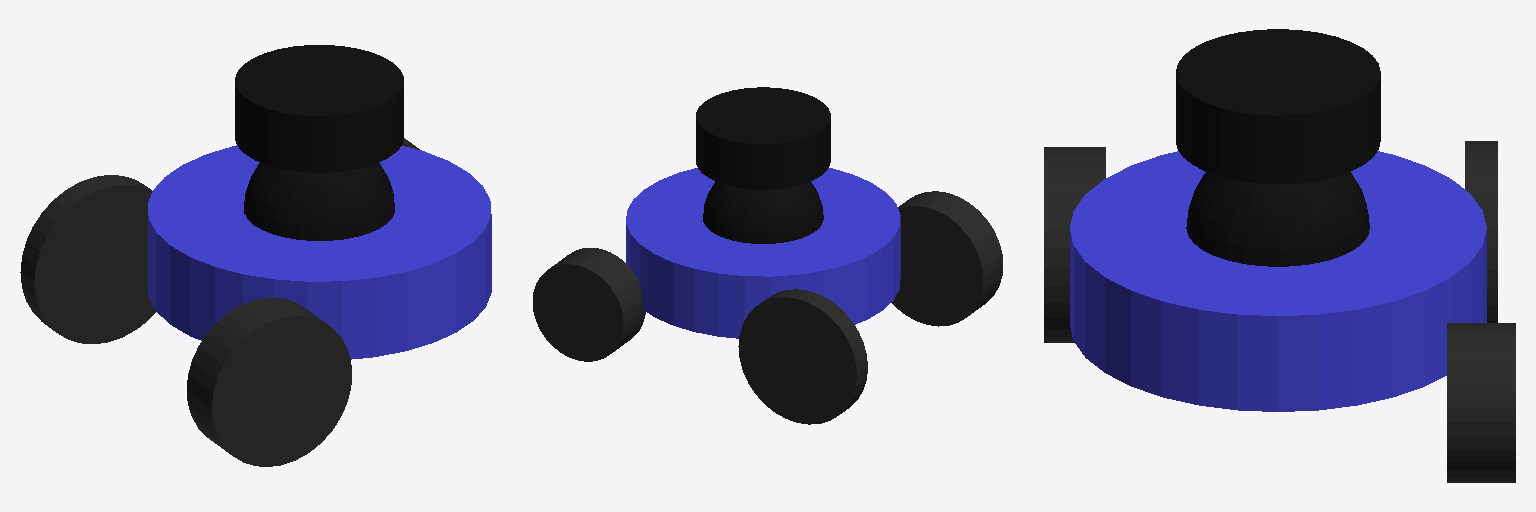
The robot description file, URDF, robot "evolved_robot":
<?xml version="1.0"?>
<robot name="evolved_robot">
  <material name="metal">
    <color rgba="0.7 0.7 0.7 1.0"/>
  </material>
  <material name="plastic">
    <color rgba="0.3 0.3 0.9 1.0"/>
  </material>
  <material name="rubber">
    <color rgba="0.1 0.1 0.1 1.0"/>
  </material>
  <material name="red">
    <color rgba="1.0 0.0 0.0 1.0"/>
  </material>
  <material name="wheel_material">
    <color rgba="0.2 0.2 0.2 1.0"/>
  </material>
  <link name="base_link">
    <visual>
      <geometry><cylinder radius="0.15577534863329562" length="0.07898880104244417"/></geometry>
      <material name="plastic"/>
    </visual>
    <collision>
      <geometry><cylinder radius="0.15577534863329562" length="0.07898880104244417"/></geometry>
    </collision>
    <inertial>
      <mass value="5.0"/>
      <inertia ixx="0.06586425701299768" ixy="0" ixz="0" 
               iyy="0.06586425701299768" iyz="0" 
               izz="0.12132979620912399"/>
    </inertial>
  </link>
  <link name="link1">
    <visual>
      <geometry><sphere radius="0.06855066156486818"/></geometry>
      <material name="rubber"/>
    </visual>
    <collision>
      <geometry><sphere radius="0.06855066156486818"/></geometry>
    </collision>
    <inertial>
      <mass value="0.5"/>
      <inertia ixx="0.0018796772803924382" ixy="0" ixz="0" 
               iyy="0.0018796772803924382" iyz="0" 
               izz="0.0018796772803924382"/>
    </inertial>
  </link>
  <joint name="joint1" type="prismatic">
    <parent link="base_link"/>
    <child link="link1"/>
    <origin xyz="0 0 0.039494400521222085" rpy="0 0 0"/>
    <axis xyz="-0.5895596738129057 -0.4706378611524718 0.6564445099651963"/>
    <dynamics damping="0.7896364953979987" friction="0.1"/>
    <limit lower="-0.9768752870320646" upper="1.2717079639294546" effort="100" velocity="100"/>
  </joint>
  <link name="link2">
    <visual>
      <geometry>
        <cylinder radius="0.059609337803635254" length="0.05091720566736713"/>
      </geometry>
      <material name="wheel_material"/>
    </visual>
    <collision>
      <geometry>
        <cylinder radius="0.059609337803635254" length="0.05091720566736713"/>
      </geometry>
    </collision>
    <inertial>
      <mass value="1.0"/>
      <inertia ixx="0.0011043651077613883" ixy="0" ixz="0" 
               iyy="0.0011043651077613883" iyz="0" 
               izz="0.0017766365766939496"/>
    </inertial>
  </link>
  <joint name="joint2" type="continuous">
    <parent link="base_link"/>
    <child link="link2"/>
    <origin xyz="0.13985519542031713 0.15169550184627412 -0.039494400521222085" rpy="1.5708 0 0"/>
    <axis xyz="0 1 0"/>
    <dynamics damping="0.6237323492205411" friction="0.1"/>
  </joint>
  <link name="link3">
    <visual>
      <geometry><sphere radius="0.025777353528867564"/></geometry>
      <material name="plastic"/>
    </visual>
    <collision>
      <geometry><sphere radius="0.025777353528867564"/></geometry>
    </collision>
    <inertial>
      <mass value="0.5"/>
      <inertia ixx="0.00026578878198088845" ixy="0" ixz="0" 
               iyy="0.00026578878198088845" iyz="0" 
               izz="0.00026578878198088845"/>
    </inertial>
  </link>
  <joint name="joint3" type="revolute">
    <parent link="base_link"/>
    <child link="link3"/>
    <origin xyz="0 0 0.0894944005212221" rpy="0 0 0"/>
    <axis xyz="0.23127341331078383 0.9214120936421503 -0.3122696943117736"/>
    <dynamics damping="0.8416399556546685" friction="0.1"/>
    <limit lower="-1.345635716334098" upper="1.2169395730998822" effort="100" velocity="100"/>
  </joint>
  <link name="link4">
    <visual>
      <geometry>
        <cylinder radius="0.07749297053403384" length="0.025103683499235224"/>
      </geometry>
      <material name="wheel_material"/>
    </visual>
    <collision>
      <geometry>
        <cylinder radius="0.07749297053403384" length="0.025103683499235224"/>
      </geometry>
    </collision>
    <inertial>
      <mass value="1.0"/>
      <inertia ixx="0.0015538063643163072" ixy="0" ixz="0" 
               iyy="0.0015538063643163072" iyz="0" 
               izz="0.0030025802410943185"/>
    </inertial>
  </link>
  <joint name="joint4" type="continuous">
    <parent link="base_link"/>
    <child link="link4"/>
    <origin xyz="-0.13985519542031713 0.15169550184627412 -0.039494400521222085" rpy="1.5708 0 0"/>
    <axis xyz="0 1 0"/>
    <dynamics damping="0.6521693402728566" friction="0.1"/>
  </joint>
  <link name="link5">
    <visual>
      <geometry>
        <cylinder radius="0.07342839007796728" length="0.045628320161431285"/>
      </geometry>
      <material name="wheel_material"/>
    </visual>
    <collision>
      <geometry>
        <cylinder radius="0.07342839007796728" length="0.045628320161431285"/>
      </geometry>
    </collision>
    <inertial>
      <mass value="1.0"/>
      <inertia ixx="0.0015214274174233707" ixy="0" ixz="0" 
               iyy="0.0015214274174233707" iyz="0" 
               izz="0.002695864234721062"/>
    </inertial>
  </link>
  <joint name="joint5" type="continuous">
    <parent link="base_link"/>
    <child link="link5"/>
    <origin xyz="-0.13985519542031713 -0.15169550184627412 -0.039494400521222085" rpy="1.5708 0 0"/>
    <axis xyz="0 1 0"/>
    <dynamics damping="0.45649072620437836" friction="0.1"/>
  </joint>
  <link name="link6">
    <visual>
      <geometry><cylinder radius="0.07657175528167132" length="0.05656871374766442"/></geometry>
      <material name="rubber"/>
    </visual>
    <collision>
      <geometry><cylinder radius="0.07657175528167132" length="0.05656871374766442"/></geometry>
    </collision>
    <inertial>
      <mass value="0.5"/>
      <inertia ixx="0.0017324767079844726" ixy="0" ixz="0" 
               iyy="0.0017324767079844726" iyz="0" 
               izz="0.0029316168534580796"/>
    </inertial>
  </link>
  <joint name="joint6" type="revolute">
    <parent link="base_link"/>
    <child link="link6"/>
    <origin xyz="0 0 0.13949440052122208" rpy="0 0 0"/>
    <axis xyz="0.0 -1.0 0.0"/>
    <dynamics damping="0.9137368393017369" friction="0.1"/>
    <limit lower="-1.3845749974452444" upper="1.0428005320151872" effort="100" velocity="100"/>
  </joint>
</robot>

--- What the picture shows (computed from the rendered views, not written in the file) ---
3 views of the same robot in one strip: view 1: azimuth 30°, elevation 25°; view 2: azimuth 150°, elevation 25°; view 3: azimuth 270°, elevation 25° (orthographic).
Model evolved_robot with 7 links and 6 joints (2 revolute, 3 continuous, 1 prismatic), rooted at base_link, posed all joints at 0.
Visible links, largest first — view 1: base_link, link5, link6, link4, link1; view 2: base_link, link4, link6, link5, link2, link1; view 3: base_link, link6, link1, link2, link5, link4.
Link boxes in pixels (bbox=[...]): base_link: bbox=[148, 145, 491, 359]; link5: bbox=[187, 298, 351, 466]; link6: bbox=[235, 45, 403, 172]; link4: bbox=[20, 175, 155, 343]; link1: bbox=[244, 163, 394, 240]; base_link: bbox=[626, 168, 900, 338]; link4: bbox=[738, 289, 867, 424]; link6: bbox=[696, 87, 830, 189]; link5: bbox=[891, 191, 1002, 326]; link2: bbox=[533, 248, 645, 361]; link1: bbox=[703, 181, 823, 243]; base_link: bbox=[1070, 151, 1486, 411]; link6: bbox=[1176, 29, 1380, 183]; link1: bbox=[1186, 172, 1369, 266]; link2: bbox=[1447, 323, 1515, 482]; link5: bbox=[1044, 147, 1105, 342]; link4: bbox=[1465, 141, 1497, 322].
Size in the robot's own frame: 0.4168 by 0.3517 by 0.2848 metres.
Geometry: primitives only (box / cylinder / sphere), no mesh files.